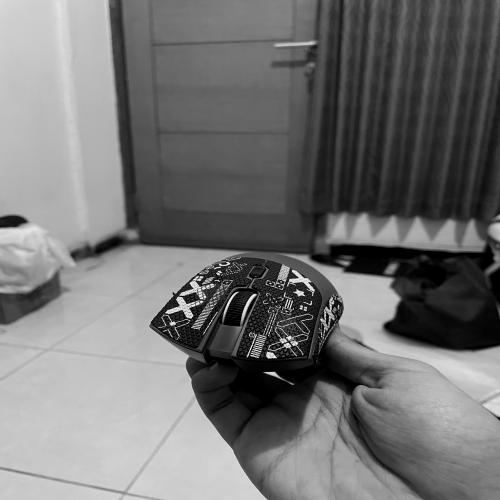mouse: (128, 240, 354, 384)
